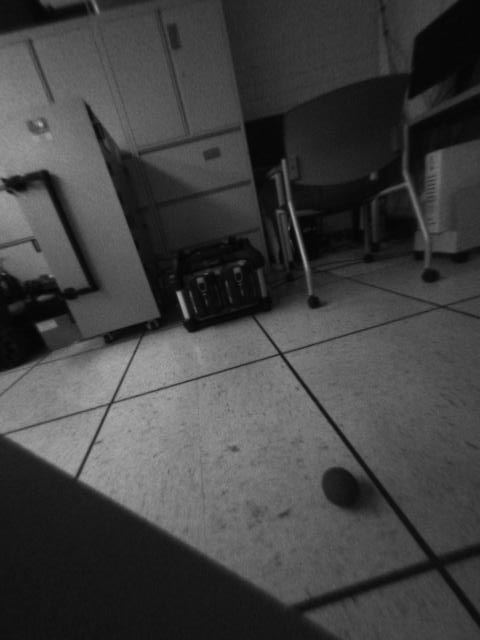dogtoy: (311, 458, 375, 516)
